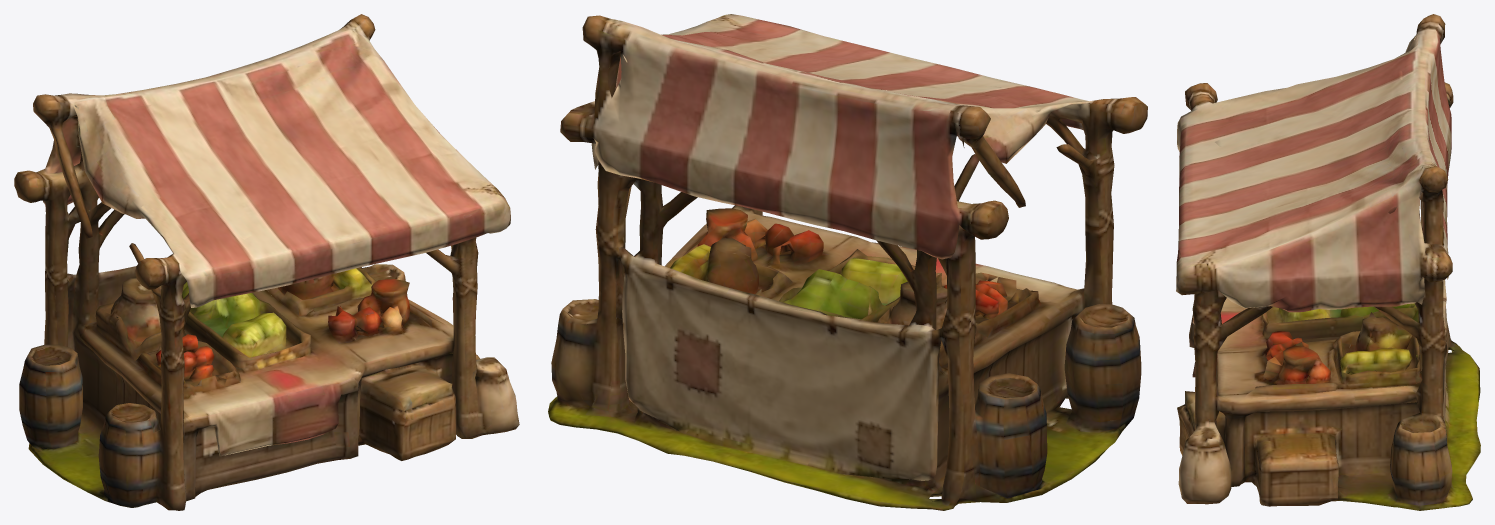
The picture shows the model from 3 angles, left to right: view 1: azimuth 30°, elevation 25°; view 2: azimuth 150°, elevation 25°; view 3: azimuth 270°, elevation 25°; orthographic projection. The views are drawn at different scales.
Visible parts, largest first — view 1: tripo_node_a6fc0dd6-fa5a-490f-85d8-39fb08993f27; view 2: tripo_node_a6fc0dd6-fa5a-490f-85d8-39fb08993f27; view 3: tripo_node_a6fc0dd6-fa5a-490f-85d8-39fb08993f27.
Boxes of the visible parts, box(x1,y1,x2,y2) form: tripo_node_a6fc0dd6-fa5a-490f-85d8-39fb08993f27: box(14, 14, 519, 510); tripo_node_a6fc0dd6-fa5a-490f-85d8-39fb08993f27: box(548, 14, 1147, 510); tripo_node_a6fc0dd6-fa5a-490f-85d8-39fb08993f27: box(1176, 14, 1480, 510).
Bounding box in the file's own units: 0.9444 × 0.7527 × 0.6368.
1 material, 1 textured.
